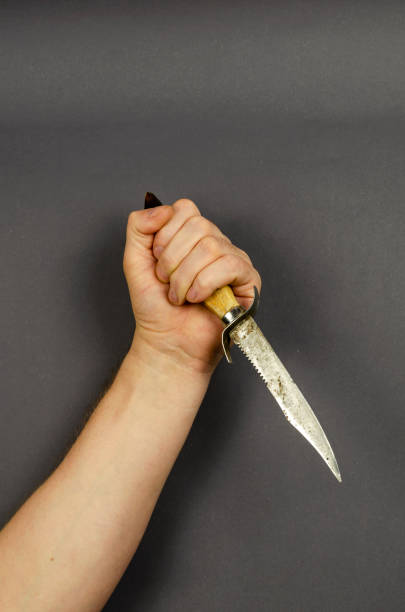knife: (141, 187, 345, 485)
